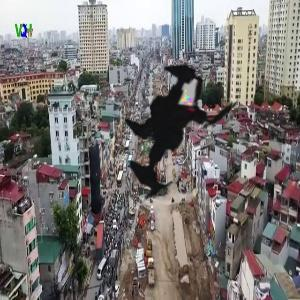drone: (75, 30, 284, 239)
